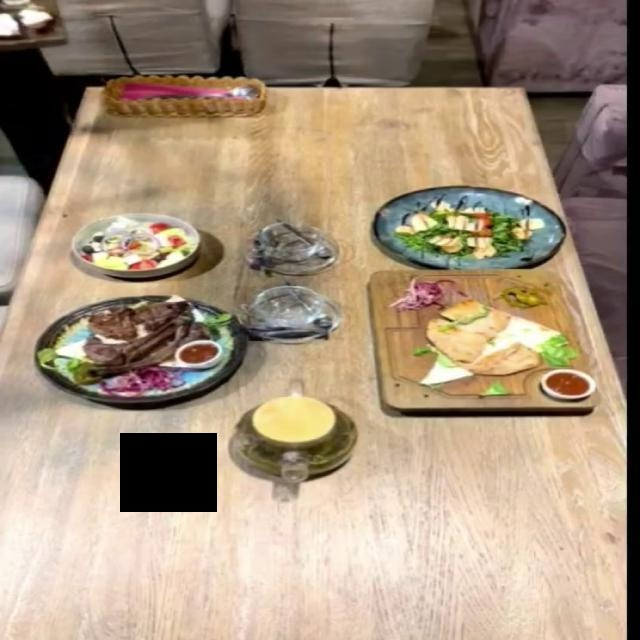meat: (368, 273, 598, 416), (34, 295, 250, 404)
salad: (375, 185, 568, 267), (70, 211, 201, 276)
tea: (230, 394, 359, 482)
